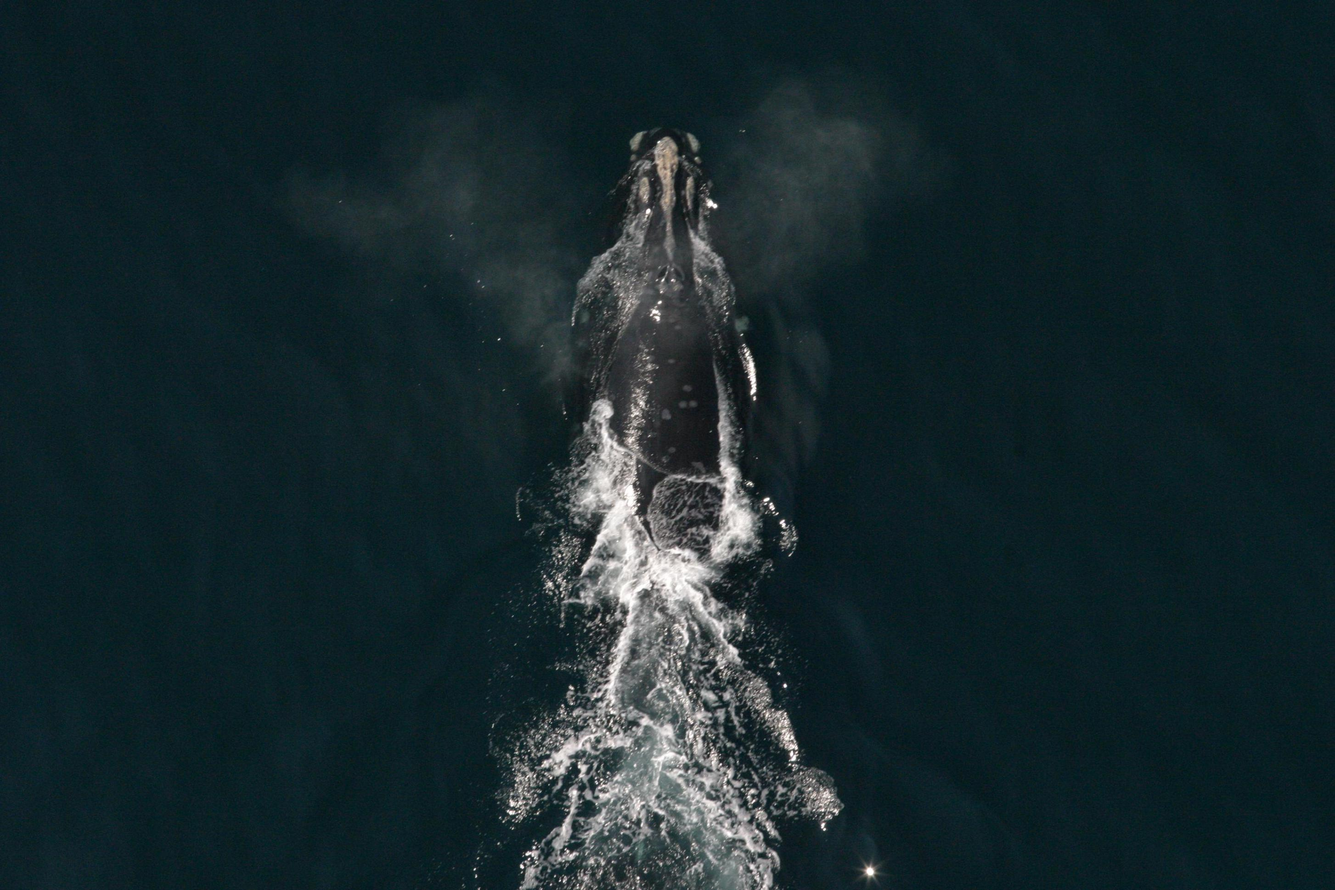whale: (549, 113, 804, 890)
